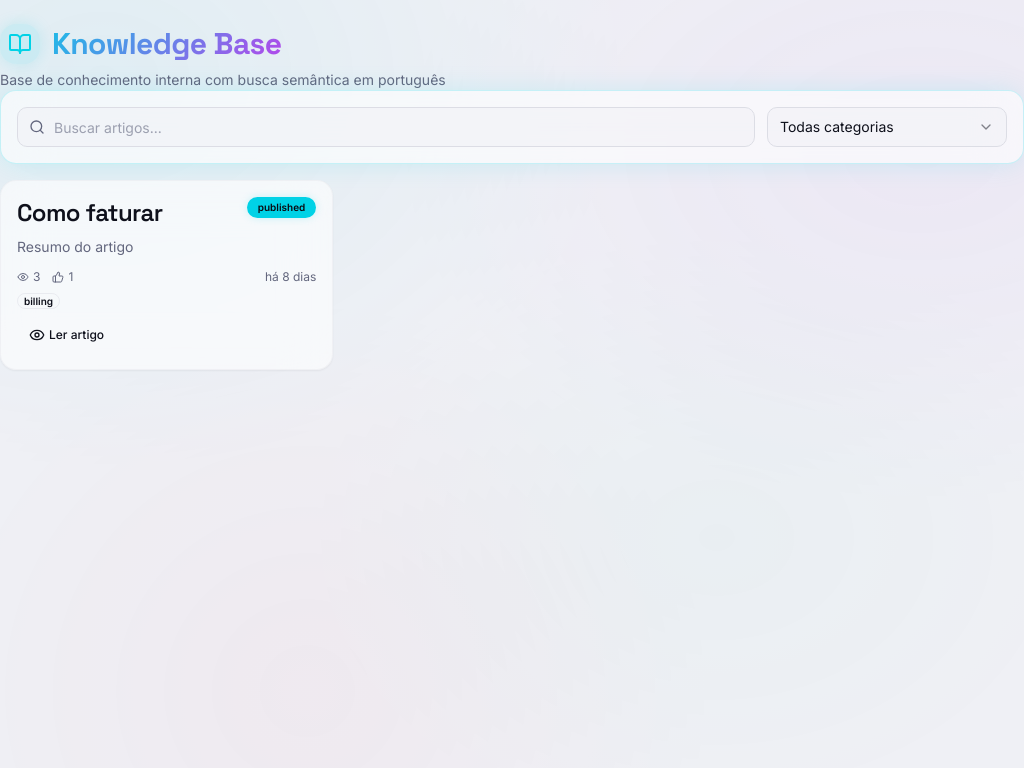
Test: Knowledge — registro de visualizacao (etapa 152) › grava o feedback de utilidade e nao deixa votar duas vezes
Click the button with aria-label "Ler artigo Como faturar" at [77, 334], box [17, 317, 316, 353]
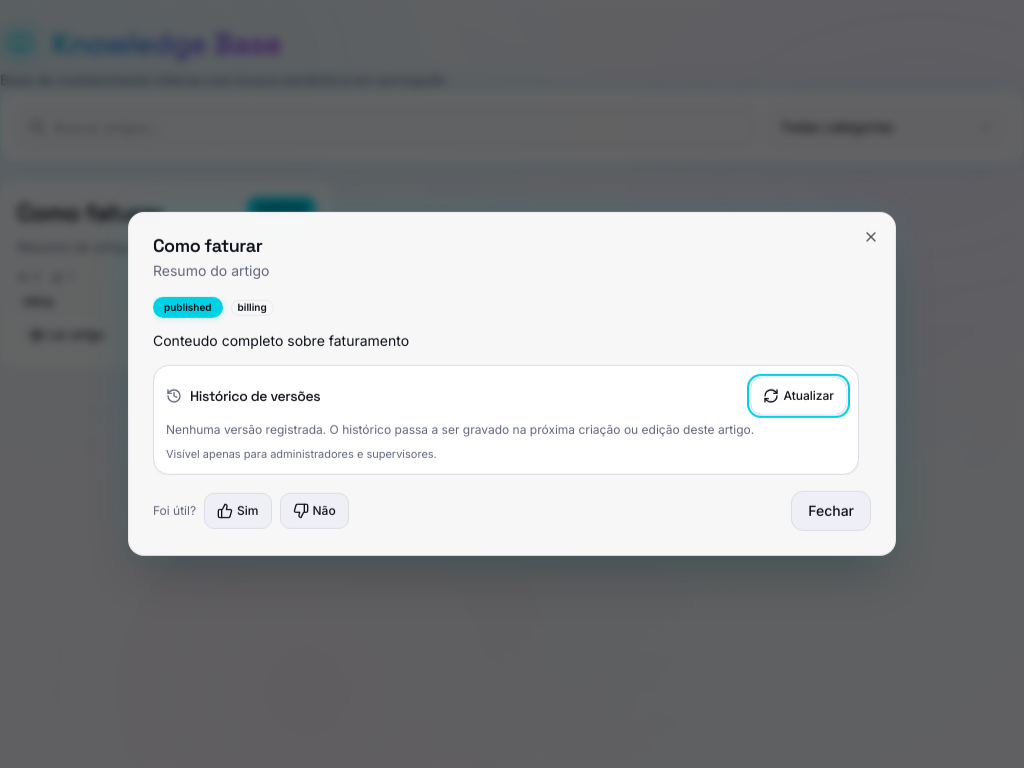
Click the button with aria-label "Marcar artigo como útil" at [238, 511], box [204, 493, 272, 529]
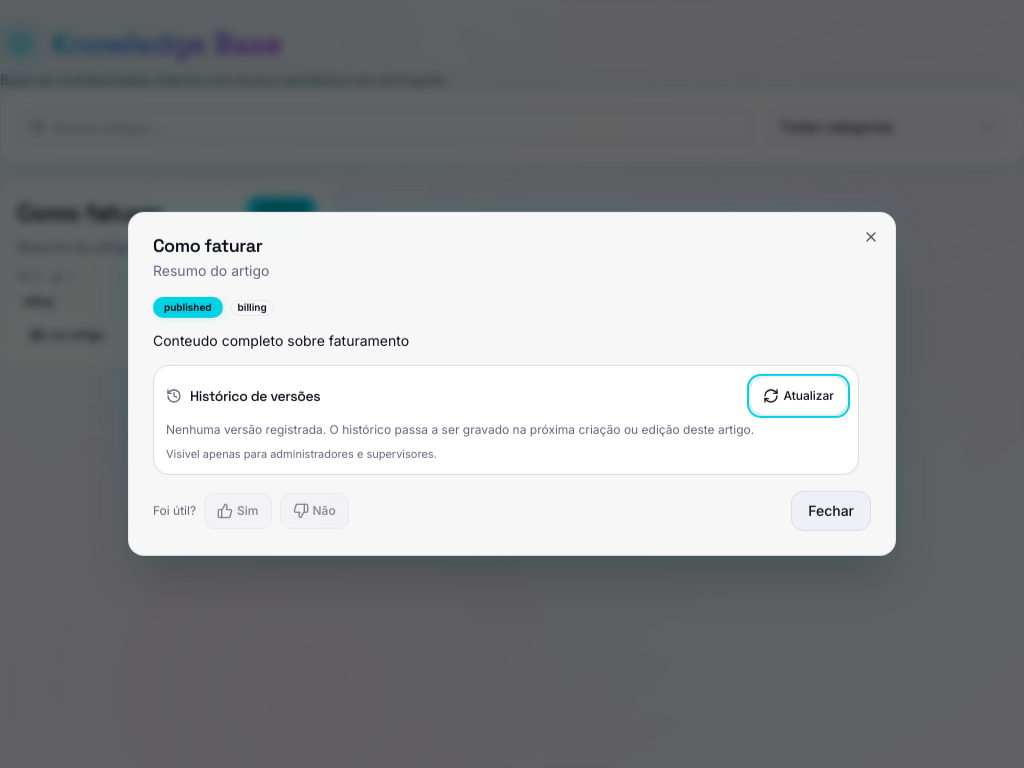
Expected: the button with aria-label "Marcar artigo como útil" is disabled, [204, 493, 272, 529]
Expected: the button with aria-label "Marcar artigo como não útil" is disabled, [280, 493, 349, 529]
